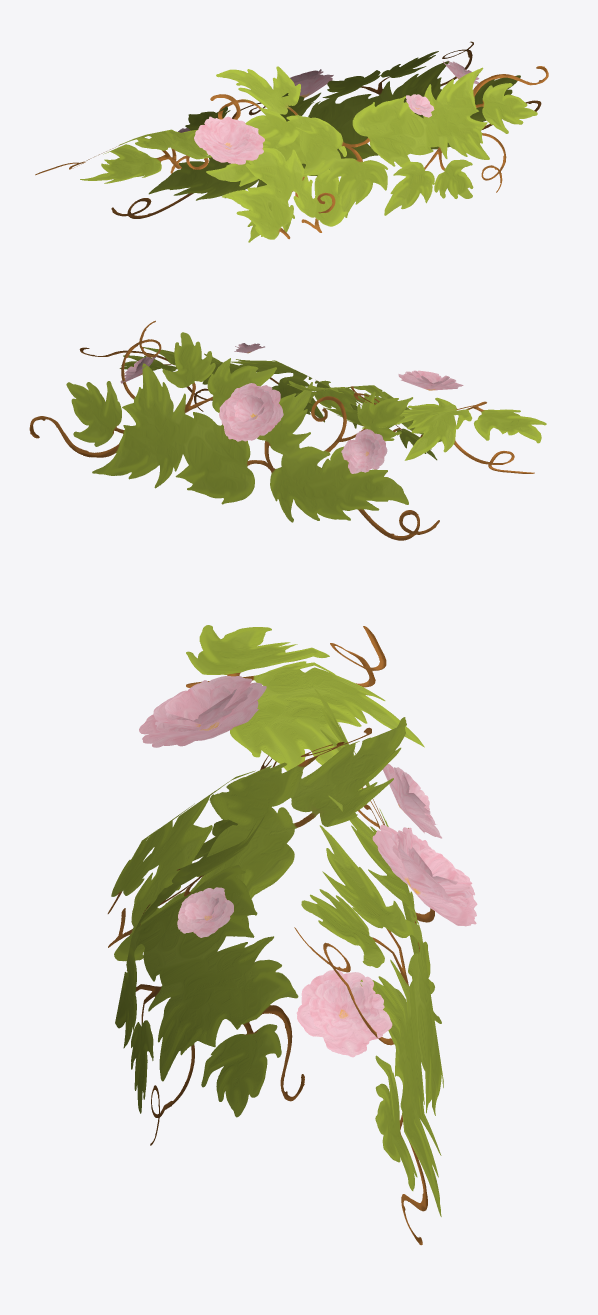
Rendered from sm_fleurs_01.fbx.
The picture shows the model from 3 angles, top to bottom: view 1: azimuth 30°, elevation 25°; view 2: azimuth 150°, elevation 25°; view 3: azimuth 270°, elevation 25°; orthographic projection. The views are drawn at different scales.
Parts seen in each view (by area): view 1: sm_fleurs_01; view 2: sm_fleurs_01; view 3: sm_fleurs_01.
Boxes of the visible parts, x1=… form: sm_fleurs_01: x1=35, y1=41, x2=548, y2=242; sm_fleurs_01: x1=29, y1=320, x2=546, y2=540; sm_fleurs_01: x1=107, y1=625, x2=477, y2=1245.
Size of the model in its own units: 239 by 63.29 by 81.2.
